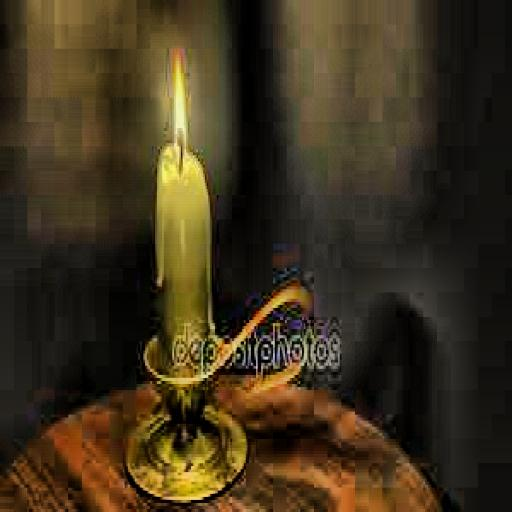fire: (165, 52, 193, 168)
